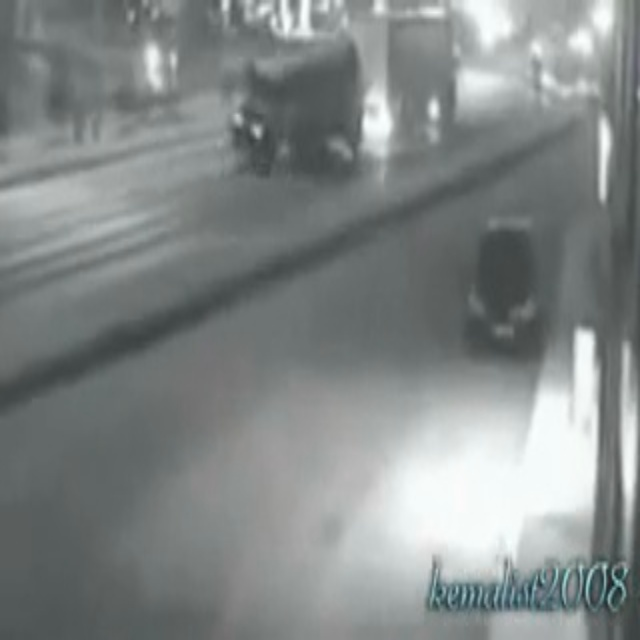acc: (201, 68, 370, 184)
